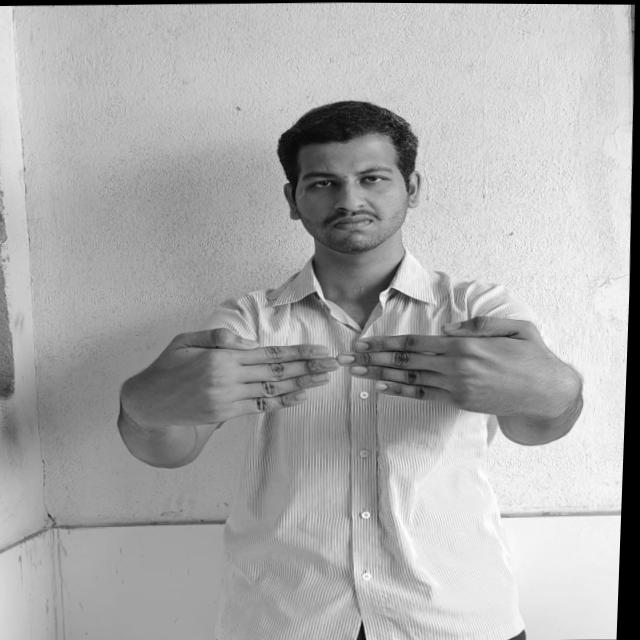Night: (129, 309, 579, 429)
